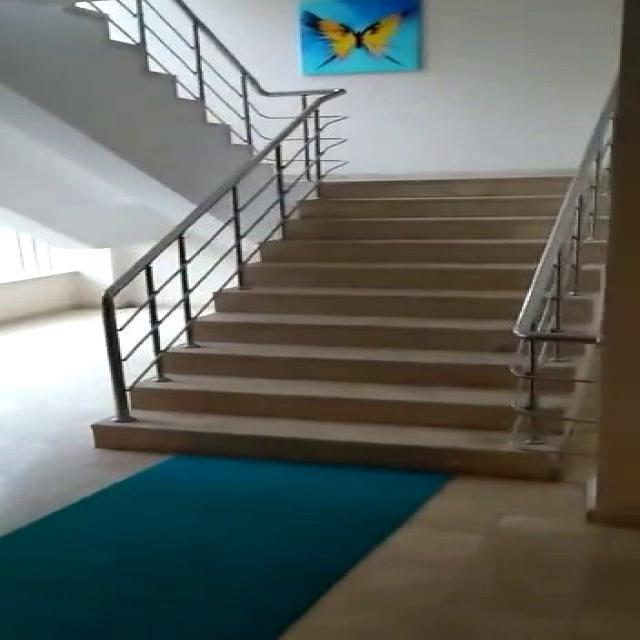stairs: (91, 173, 591, 479)
